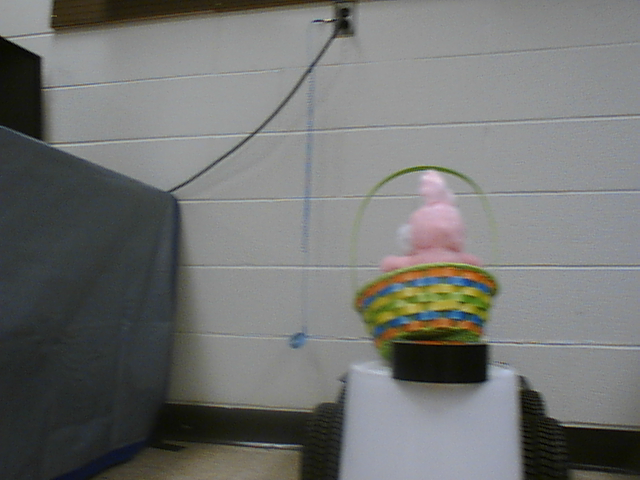bunny: (335, 149, 502, 364)
